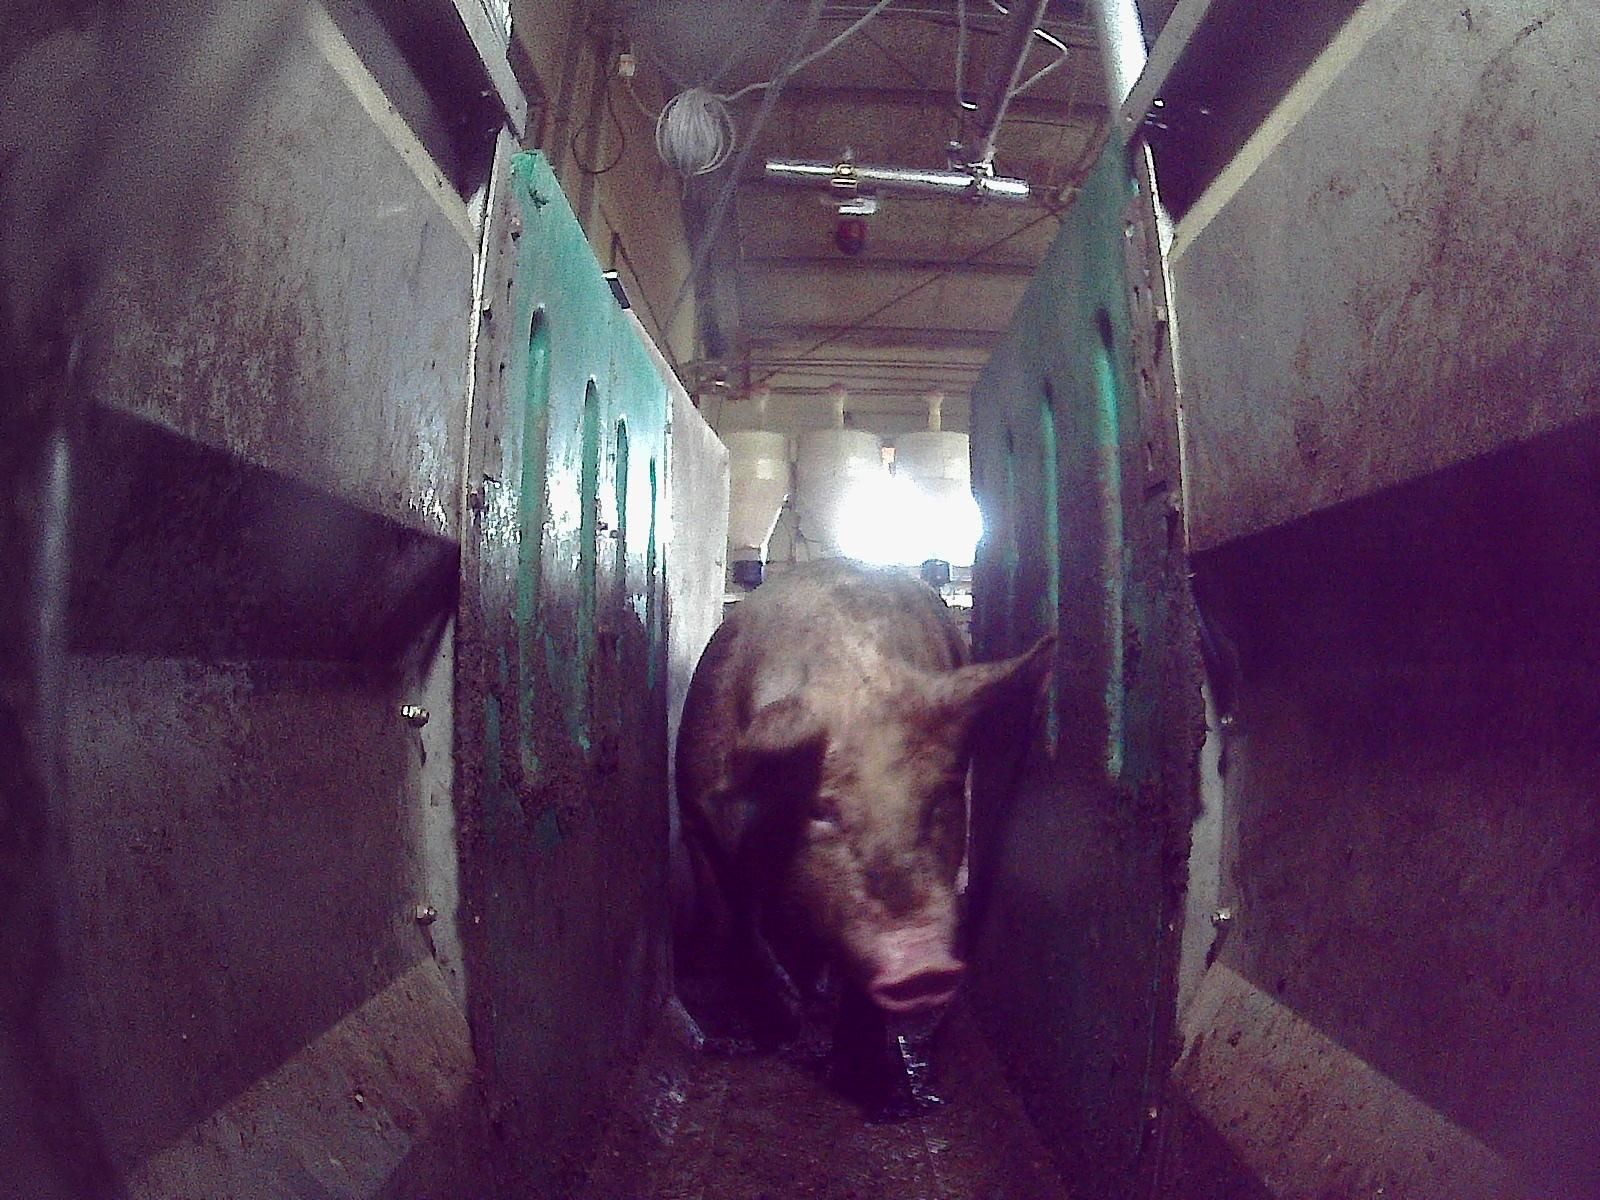Face: (752, 682, 965, 1011)
